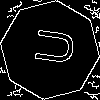U: (25, 25, 76, 67)
